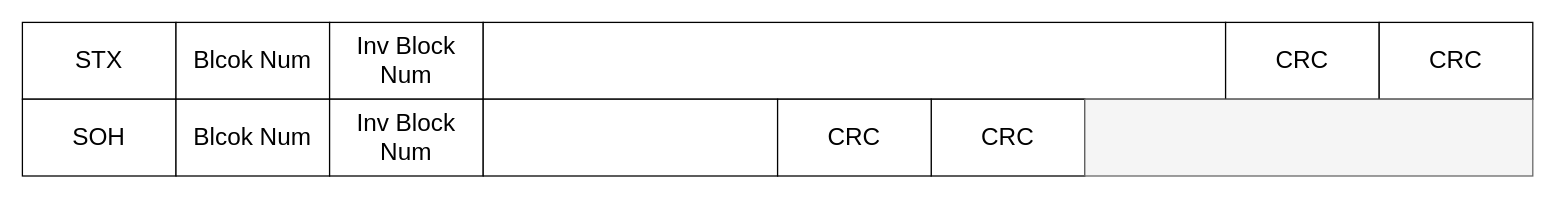
Image size: 1555x198. Some labels were removed from this diagram. The shapes that lost their labels are listed below. From the top down, each one's centre as x and y in pixels, then its label:
pixel 854 60: Data 1024 bytes
pixel 630 137: Data 128 bytes
